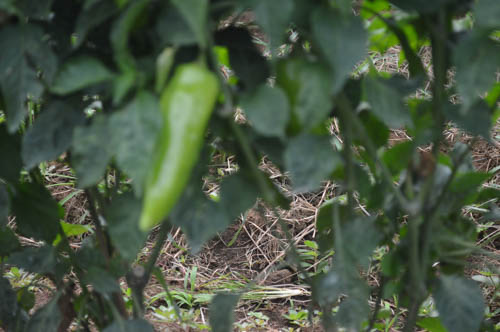ChiliPepper: (134, 63, 220, 240)
